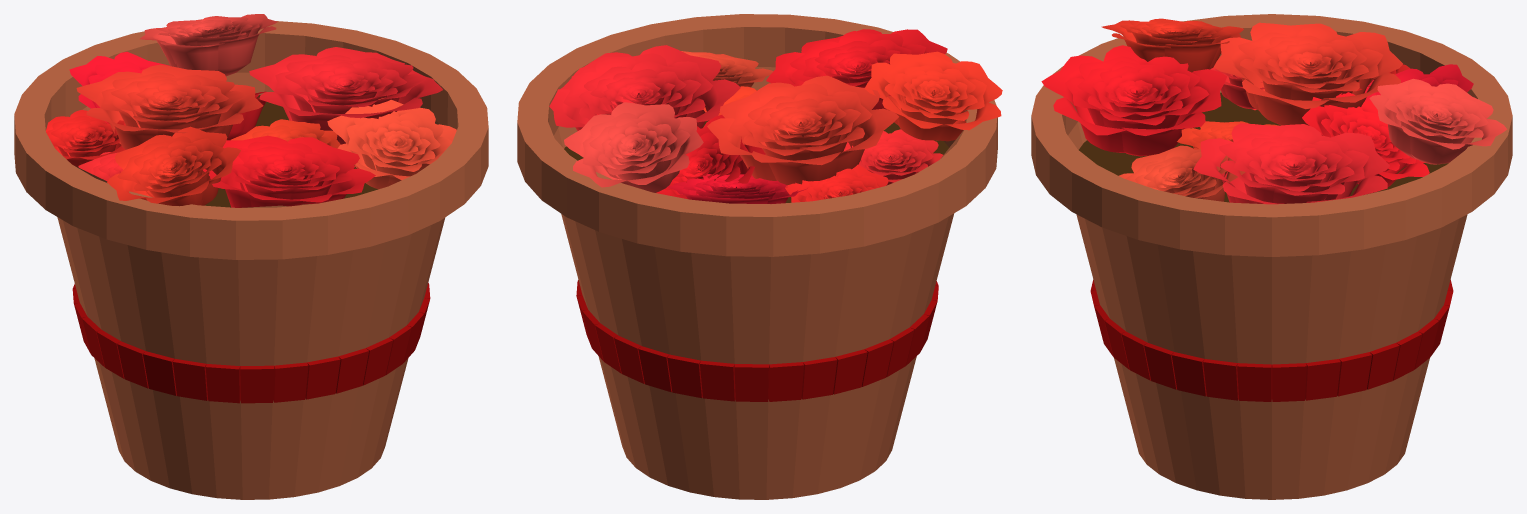
Rendered from finalFlowerPot(NoFlowers2).fbx.
3 renders of one model, left to right at view 1: azimuth 30°, elevation 25°; view 2: azimuth 150°, elevation 25°; view 3: azimuth 270°, elevation 25°, orthographic.
Parts seen in each view (by area): view 1: flower pot, Head.007; view 2: flower pot, Head.007; view 3: flower pot, Head.007.
Part boxes in pixels (x1,y1,x2,y2): flower pot: [14, 21, 488, 499]; Head.007: [46, 14, 456, 207]; flower pot: [517, 14, 997, 499]; Head.007: [549, 29, 1002, 203]; flower pot: [1031, 14, 1512, 499]; Head.007: [1041, 18, 1507, 204].
Bounding box in the file's own units: 20.25 × 16.91 × 20.25.
